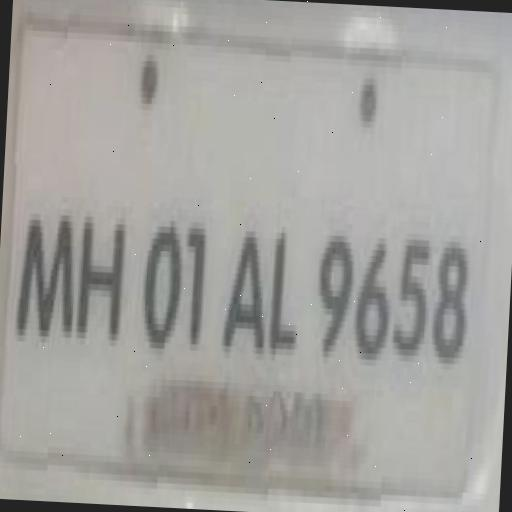number plate: (0, 42, 495, 469)
